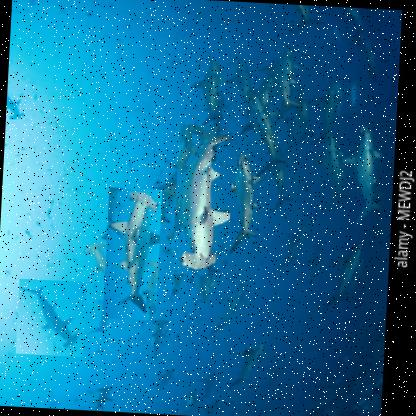hammerhead_Shark: (170, 122, 235, 276), (101, 185, 162, 320), (14, 278, 86, 356)
